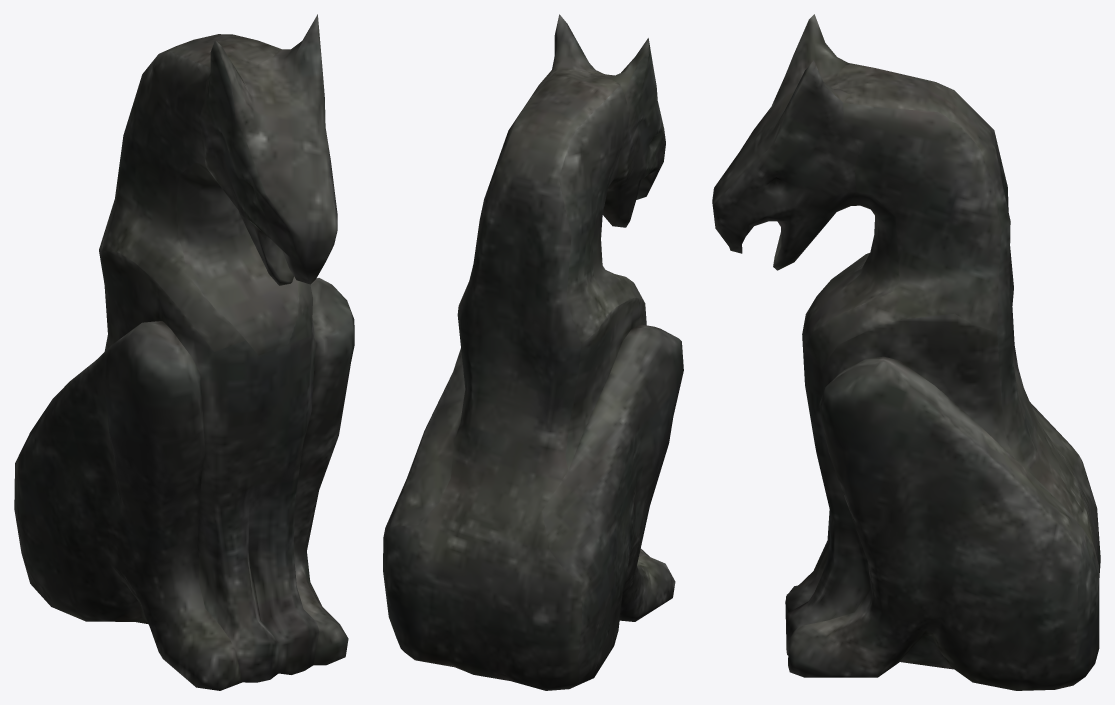
The model's file is statue.glb.
The picture shows the model from 3 angles, left to right: view 1: azimuth 30°, elevation 25°; view 2: azimuth 150°, elevation 25°; view 3: azimuth 270°, elevation 25°; orthographic projection. The views are drawn at different scales.
Visible parts, largest first — view 1: staue1_staue1_0; view 2: staue1_staue1_0; view 3: staue1_staue1_0.
Part boxes in pixels (x1=…): staue1_staue1_0: x1=14, y1=14, x2=354, y2=690; staue1_staue1_0: x1=383, y1=14, x2=683, y2=690; staue1_staue1_0: x1=712, y1=14, x2=1100, y2=690.
Size of the model in its own units: 3.02 by 7.79 by 4.49.
1 material, 1 textured.
